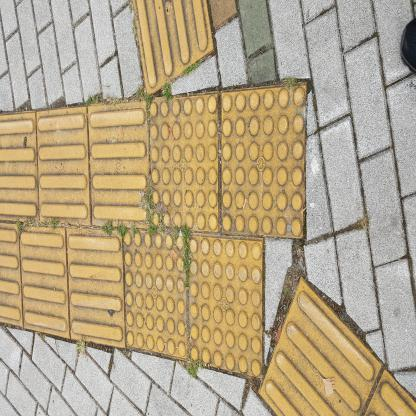podotacti: (0, 74, 313, 415), (248, 263, 415, 415), (126, 0, 219, 93)
